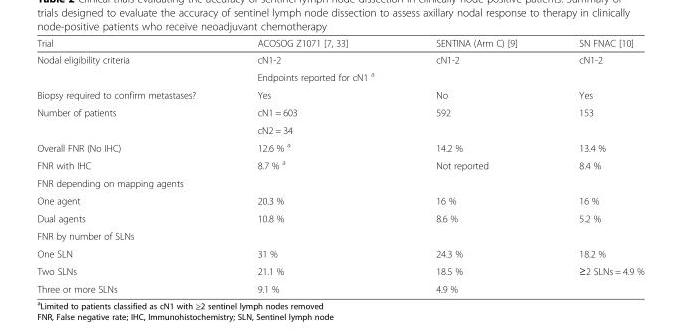table: (36, 37, 643, 294)
table column: (36, 37, 225, 294), (225, 37, 404, 294), (404, 37, 547, 294), (547, 37, 643, 294)
table column header: (36, 37, 643, 51)
table projected row header: (36, 226, 643, 244), (36, 174, 643, 191)
table row: (36, 155, 643, 174), (36, 67, 643, 85), (36, 85, 643, 103), (36, 103, 643, 121), (36, 137, 643, 155), (36, 191, 643, 209), (36, 226, 643, 244), (36, 261, 643, 279), (36, 174, 643, 191), (36, 209, 643, 226), (36, 244, 643, 261), (36, 51, 643, 67), (36, 121, 643, 137), (36, 279, 643, 294), (36, 37, 643, 51)
table spanning cell: (36, 51, 225, 85), (36, 103, 225, 137), (404, 51, 547, 85), (404, 103, 547, 137), (547, 51, 643, 85), (547, 103, 643, 137), (547, 261, 643, 294)
